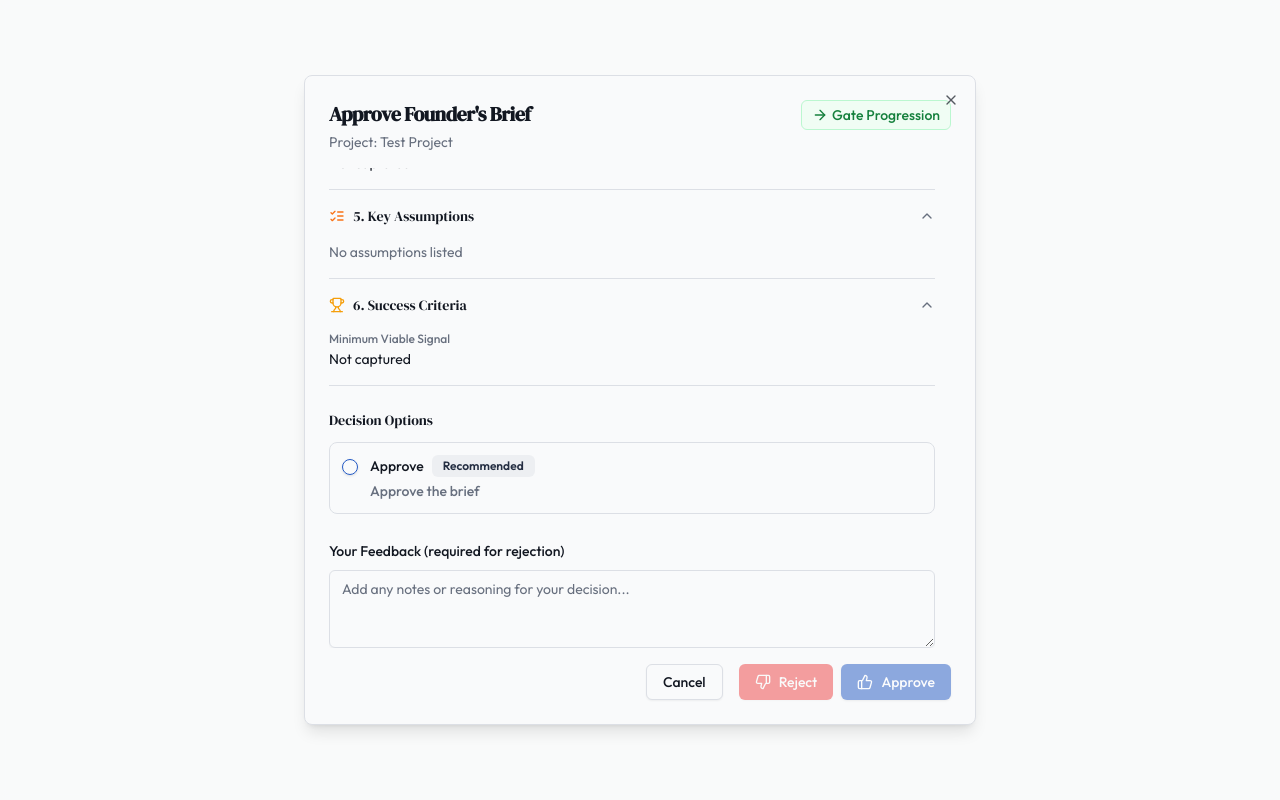
Test: ApprovalDetailModal - brief rejection flow › enables Reject button for brief checkpoints when feedback has content
(page scrolled)
In the text box with placeholder "Add any notes or reasoning for your decision...": (632, 609) [329, 570, 935, 648], type "Some feedback"
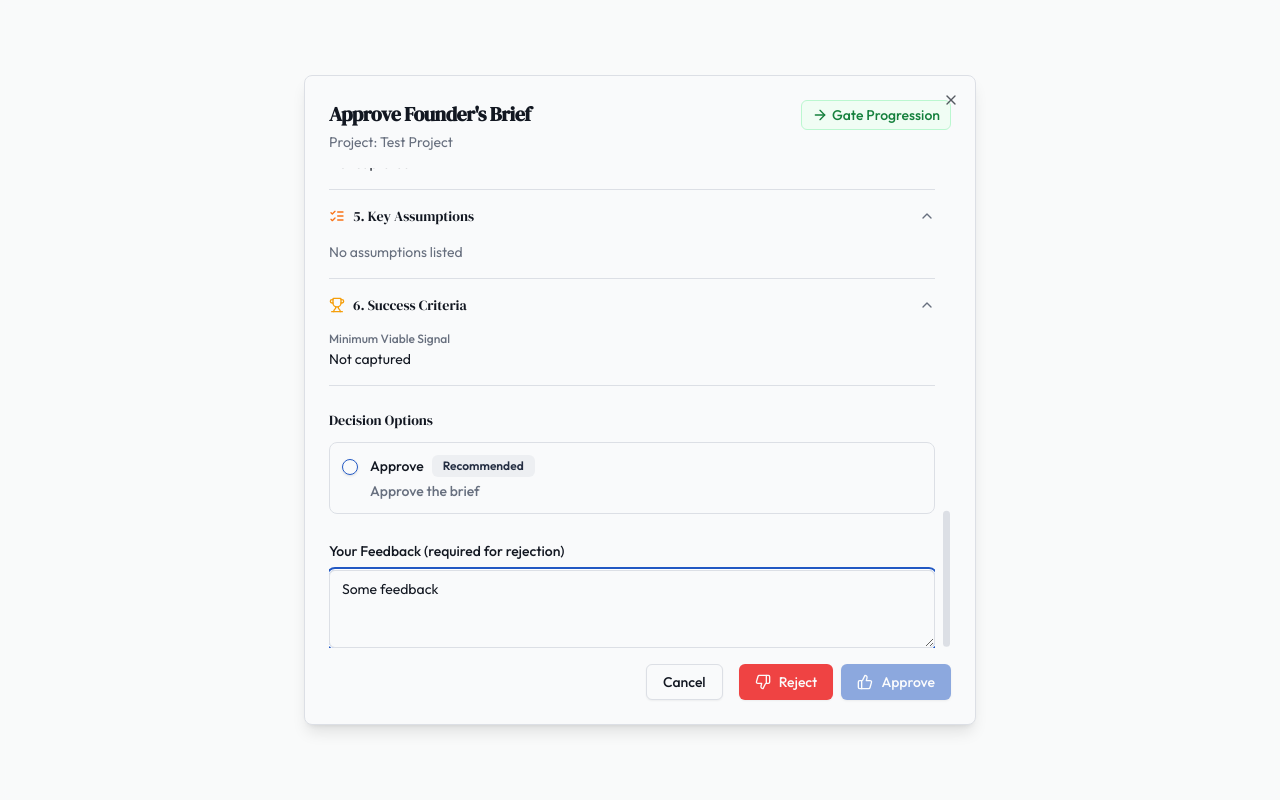
Check: the button "Reject" is enabled, box [739, 664, 833, 700]
